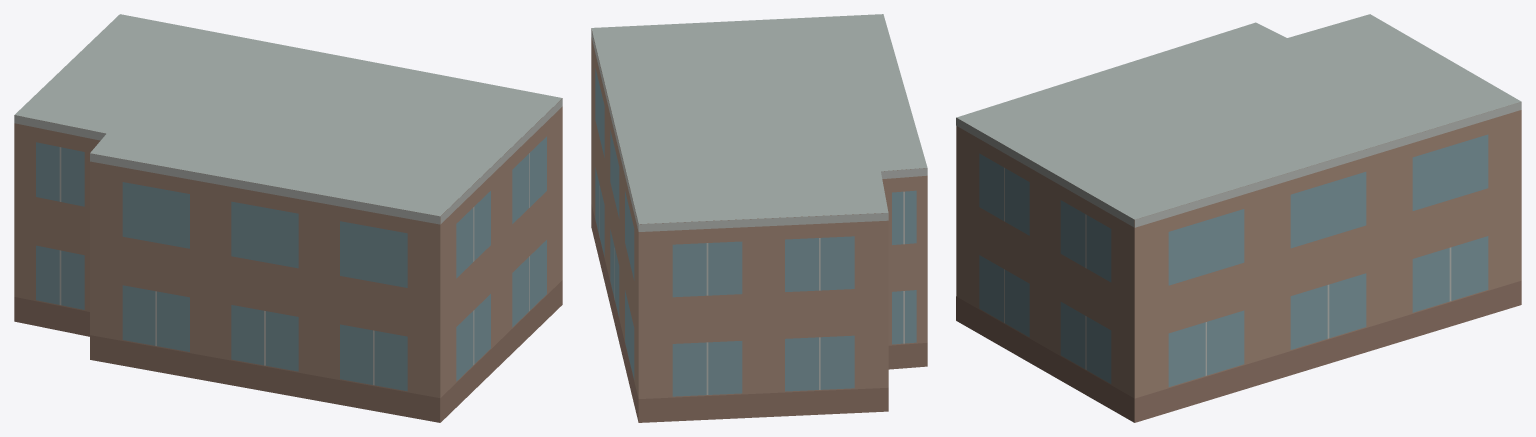
Rendered from survey-upis-32595870.glb.
3 views of the same model, side by side, from view 1: azimuth 30°, elevation 25°; view 2: azimuth 150°, elevation 25°; view 3: azimuth 270°, elevation 25° (orthographic). The views are drawn at different scales.
Parts seen in each view (by area): view 1: survey-upis-32595870.tmp; view 2: survey-upis-32595870.tmp; view 3: survey-upis-32595870.tmp.
Part boxes in pixels (box(x1,y1,x2,y2)): survey-upis-32595870.tmp: box(14, 14, 562, 422); survey-upis-32595870.tmp: box(591, 14, 927, 422); survey-upis-32595870.tmp: box(956, 14, 1521, 422).
Size of the model in its own units: 13.25 by 6.1 by 15.4.
